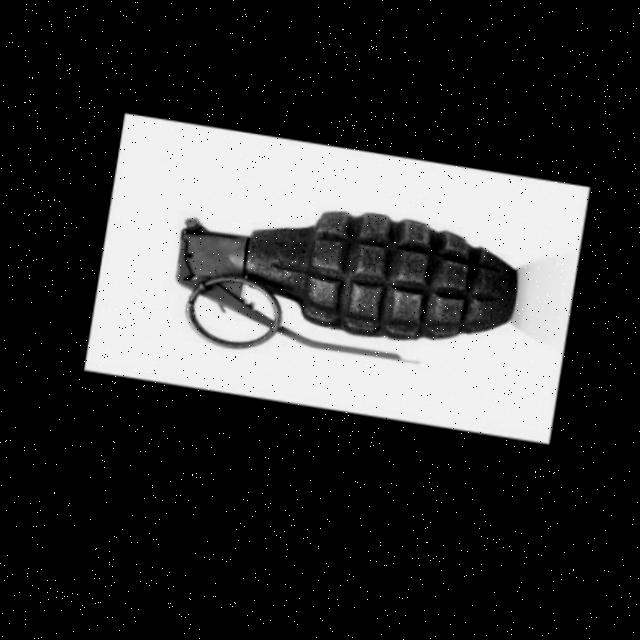grenade: (121, 162, 548, 418)
